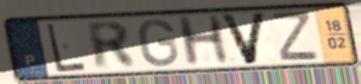G: (136, 17, 181, 68)
H: (174, 13, 233, 69)
L: (44, 21, 89, 74)
R: (83, 20, 140, 73)
V: (217, 11, 271, 67)
Z: (270, 9, 321, 62)
